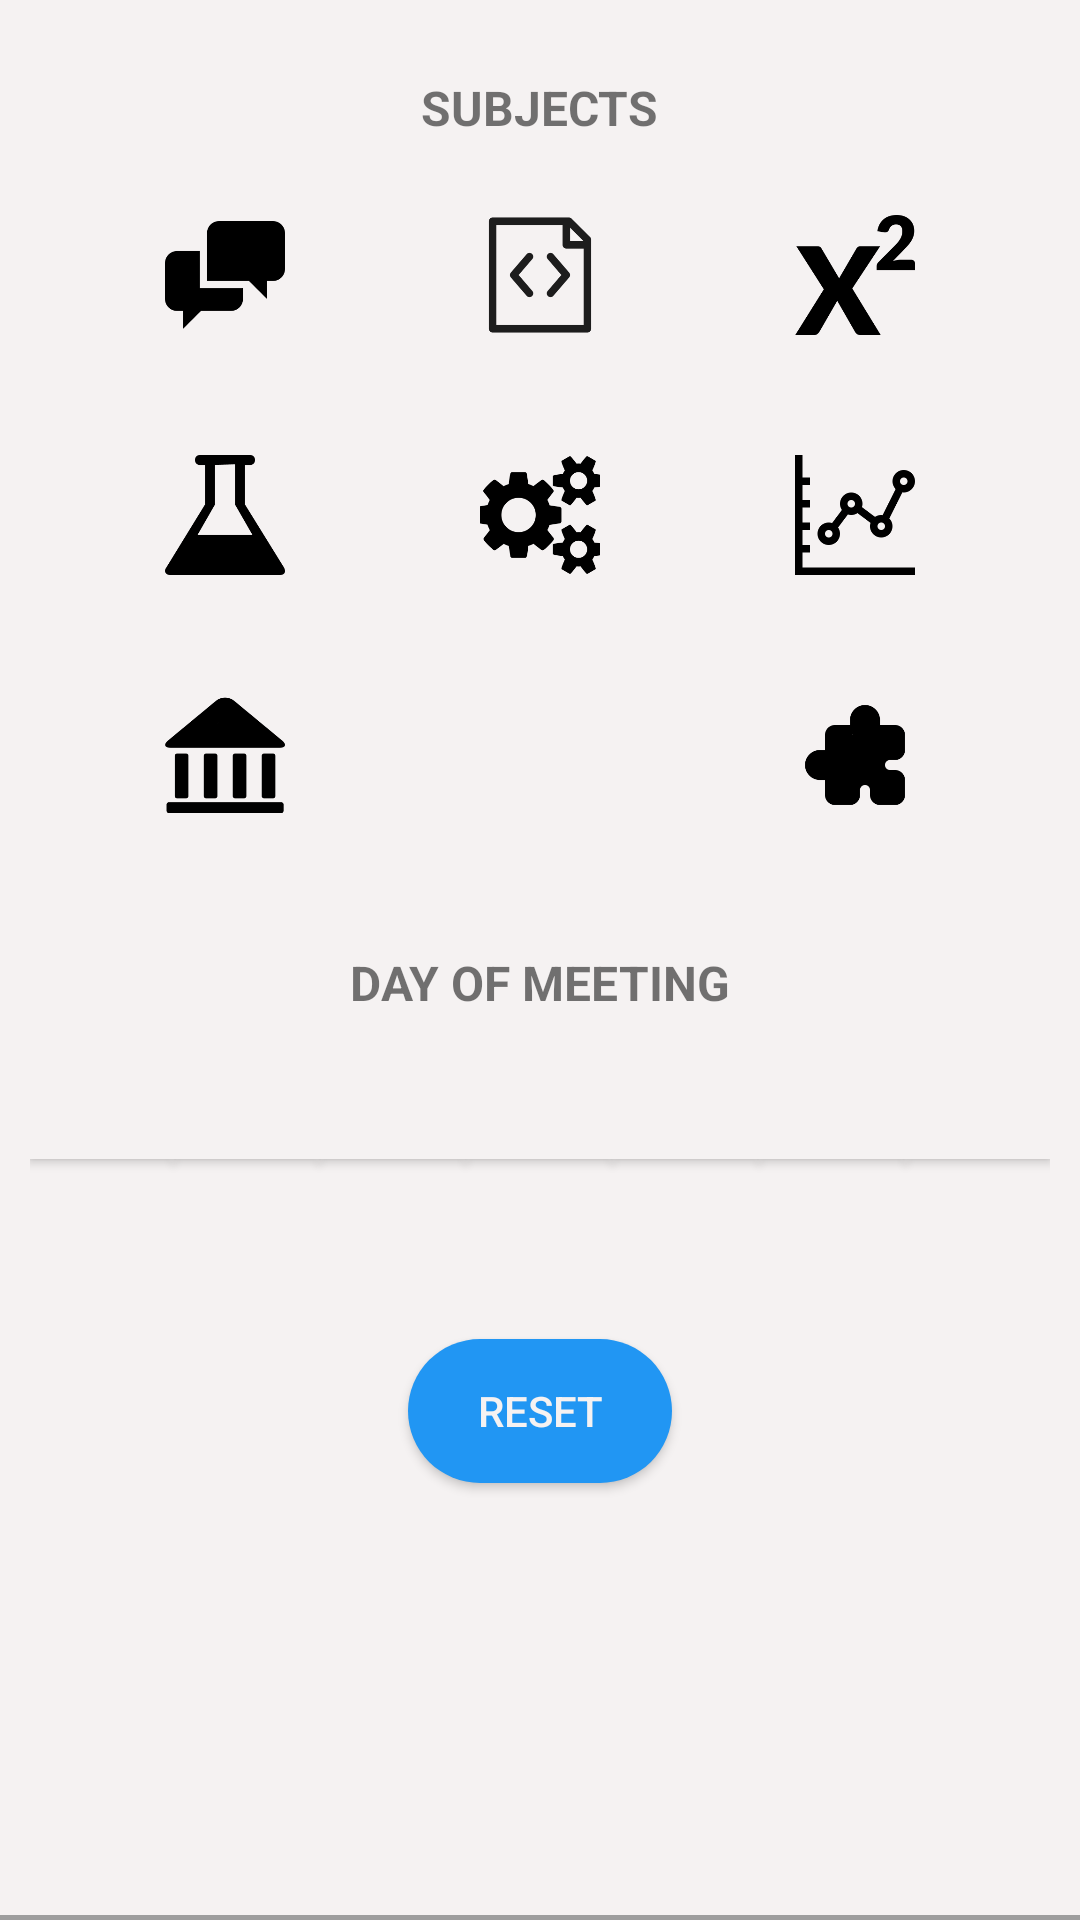

Screen size 1080 x 1920. Icon name, then its box in pixels as detection(x1, y1, x2, y2):
business: detection(795, 455, 915, 575)
engineering: detection(480, 456, 600, 574)
language: detection(165, 221, 285, 329)
law: detection(165, 697, 285, 813)
math: detection(795, 215, 915, 335)
other: detection(805, 705, 905, 805)
programming: detection(489, 217, 591, 333)
science: detection(165, 455, 285, 575)
